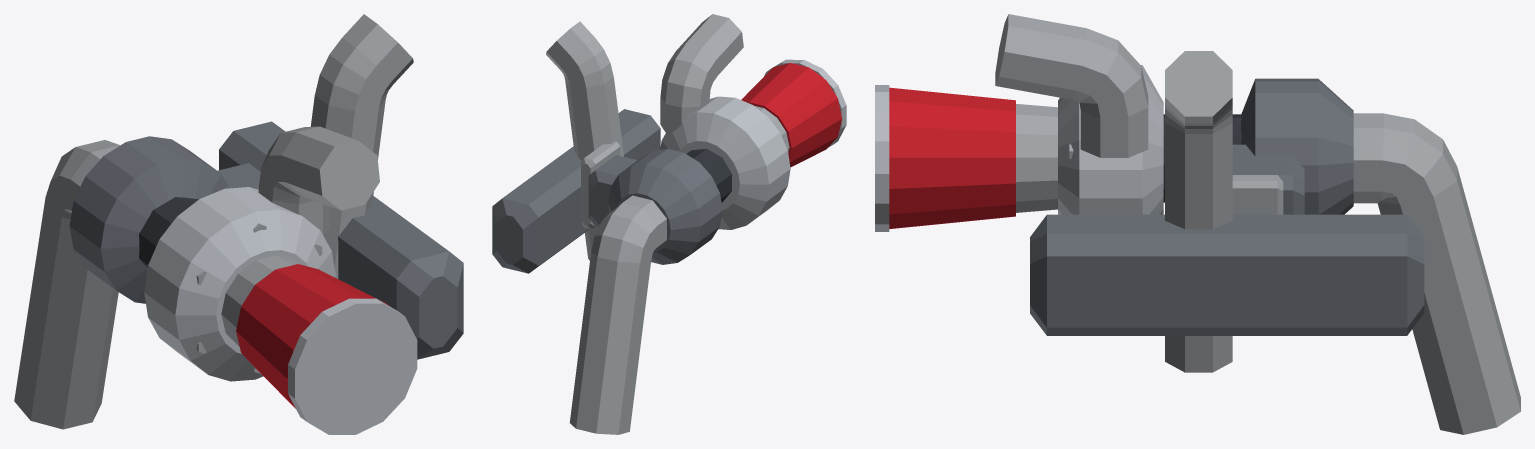
File: hana_roadster.glb
3 views of the same model, side by side, from view 1: azimuth 30°, elevation 25°; view 2: azimuth 150°, elevation 25°; view 3: azimuth 270°, elevation 25° (orthographic). The views are drawn at different scales.
Visible parts, largest first — view 1: model; view 2: model; view 3: model.
Part boxes in pixels (x1=…): model: x1=14, y1=14, x2=463, y2=434; model: x1=492, y1=14, x2=846, y2=434; model: x1=875, y1=14, x2=1520, y2=434.
Bounding box in the file's own units: 0.2419 × 0.3591 × 0.4587.
2 materials, 1 textured.
